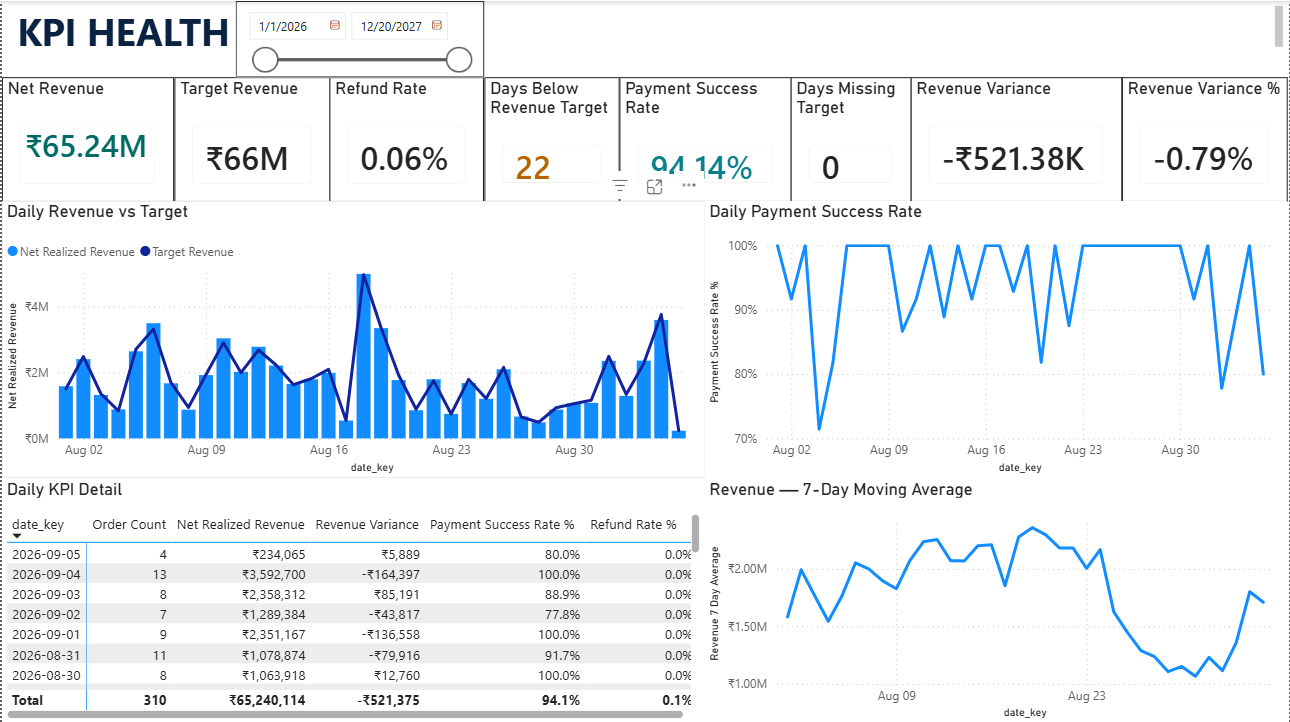

Layout of this report page (visuals, bound fields, positions):
{"tool":"powerbi","page":{"name":"KPI health","canvas":[1280,720],"ordinal":1},"visuals":[{"type":"textbox","box":[10,0,1270,54.7],"z":0},{"type":"cardVisual","title":"Net Revenue","fields":{"Data":["rpt_fact_daily_kpis.Net Realized Revenue"]},"box":[0,75.6,171.4,124.2],"z":1000},{"type":"cardVisual","title":"Target Revenue","fields":{"Data":["rpt_fact_daily_kpis.Target Revenue"]},"box":[171.3,75.6,155.1,124.2],"z":2000},{"type":"cardVisual","title":"Revenue Variance","fields":{"Data":["rpt_fact_daily_kpis.Revenue Variance"]},"box":[904.7,75.6,210.4,124.2],"z":3000},{"type":"cardVisual","title":"Revenue Variance %","fields":{"Data":["rpt_fact_daily_kpis.Revenue Variance %"]},"box":[1115.1,75.6,165,124.2],"z":4000},{"type":"cardVisual","title":"Payment Success Rate","fields":{"Data":["rpt_fact_daily_kpis.Payment Success Rate %"]},"box":[614,75.6,171.3,123.9],"z":5000},{"type":"cardVisual","title":"Refund Rate","fields":{"Data":["rpt_fact_daily_kpis.Refund Rate %"]},"box":[326.1,75.6,153.2,124.2],"z":6000},{"type":"cardVisual","title":"Days Below Revenue Target","fields":{"Data":["rpt_fact_daily_kpis.Days Below Revenue Target"]},"box":[480.1,75.6,134.2,124.2],"z":7000},{"type":"cardVisual","title":"Days Missing Target","fields":{"Data":["rpt_fact_daily_kpis.Days Missing Target"]},"box":[785.3,75.6,119.7,124.2],"z":8000},{"type":"lineStackedColumnComboChart","title":"Daily Revenue vs Target","fields":{"Category":["rpt_dim_date.date_key"],"Y":["rpt_fact_daily_kpis.Net Realized Revenue"],"Y2":["rpt_fact_daily_kpis.Target Revenue"]},"box":[0,199.5,699.7,276],"z":9000},{"type":"lineChart","title":"Daily Payment Success Rate","fields":{"Category":["rpt_dim_date.date_key"],"Y":["rpt_fact_daily_kpis.Payment Success Rate %"]},"box":[699.7,199.5,580.3,276],"z":10000},{"type":"lineChart","title":"Revenue — 7-Day Moving Average","fields":{"Category":["rpt_dim_date.date_key"],"Y":["rpt_fact_daily_kpis.Revenue 7 Day Average"]},"box":[699.7,475.6,580.3,244.2],"z":11000},{"type":"pivotTable","title":"Daily KPI Detail","fields":{"Rows":["rpt_dim_date.date_key"],"Values":["rpt_fact_daily_kpis.Order Count","rpt_fact_daily_kpis.Net Realized Revenue","rpt_fact_daily_kpis.Revenue Variance","rpt_fact_daily_kpis.Payment Success Rate %","rpt_fact_daily_kpis.Refund Rate %"]},"box":[0,475.6,699.7,244.2],"z":12000},{"type":"slicer","fields":{"Values":["rpt_dim_date.date_key"]},"box":[233.2,0,246.9,75.6],"z":13000}]}

Visuals, with their boxes in screenshot pixels (x1, y1, x2, y2), scaled from the page's 1280x720 canvas onto the 1290x722 screenshot:
textbox: {"left": 10, "top": 0, "right": 1289, "bottom": 55}
"Net Revenue" cardVisual: {"left": 0, "top": 76, "right": 173, "bottom": 200}
"Target Revenue" cardVisual: {"left": 173, "top": 76, "right": 329, "bottom": 200}
"Revenue Variance" cardVisual: {"left": 912, "top": 76, "right": 1124, "bottom": 200}
"Revenue Variance %" cardVisual: {"left": 1124, "top": 76, "right": 1289, "bottom": 200}
"Payment Success Rate" cardVisual: {"left": 619, "top": 76, "right": 791, "bottom": 200}
"Refund Rate" cardVisual: {"left": 329, "top": 76, "right": 483, "bottom": 200}
"Days Below Revenue Target" cardVisual: {"left": 484, "top": 76, "right": 619, "bottom": 200}
"Days Missing Target" cardVisual: {"left": 791, "top": 76, "right": 912, "bottom": 200}
"Daily Revenue vs Target" lineStackedColumnComboChart: {"left": 0, "top": 200, "right": 705, "bottom": 477}
"Daily Payment Success Rate" lineChart: {"left": 705, "top": 200, "right": 1289, "bottom": 477}
"Revenue — 7-Day Moving Average" lineChart: {"left": 705, "top": 477, "right": 1289, "bottom": 721}
"Daily KPI Detail" pivotTable: {"left": 0, "top": 477, "right": 705, "bottom": 721}
slicer - rpt_dim_date.date_key: {"left": 235, "top": 0, "right": 484, "bottom": 76}
